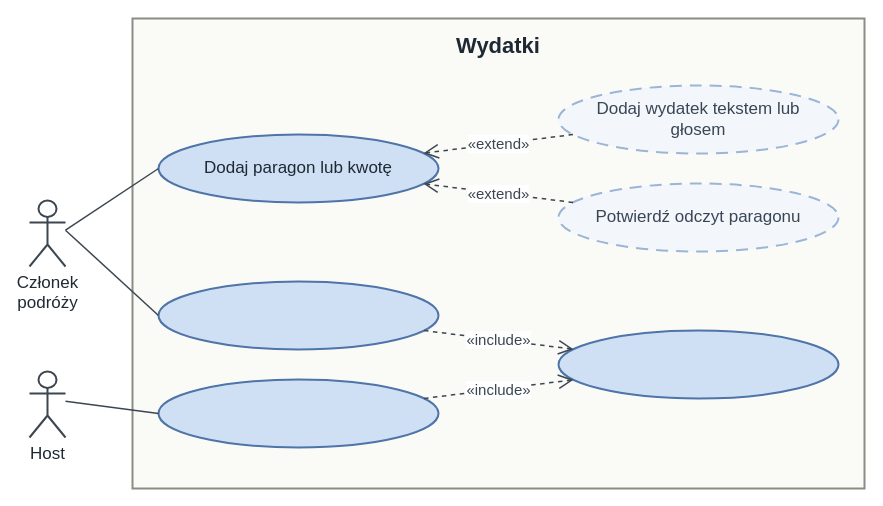
Image size: 883x506. Some labels were removed from this diagram. Here are the shapes that lost their labels. From the top down, the centre of each, then its label:
point 298,315: Zobacz kwotę do przelania
point 698,364: Podziel koszty między członków
point 298,413: Rozlicz wydatki na koniec podróży
